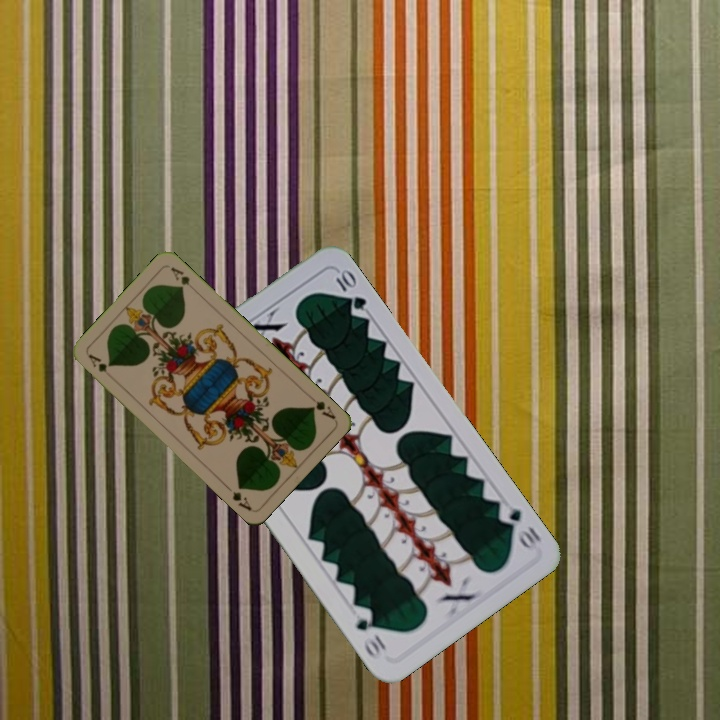G10: (493, 498, 544, 552)
GA: (84, 350, 116, 382), (306, 397, 338, 422)
